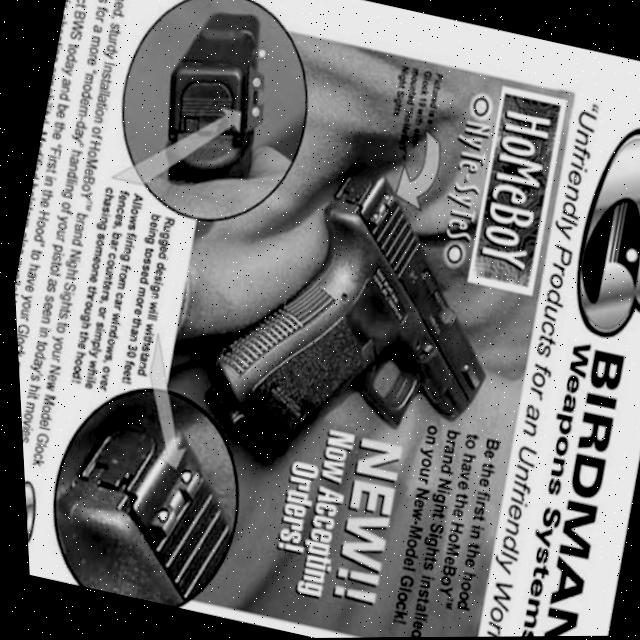pistol: (169, 133, 531, 512), (30, 391, 256, 618), (140, 0, 287, 200)
